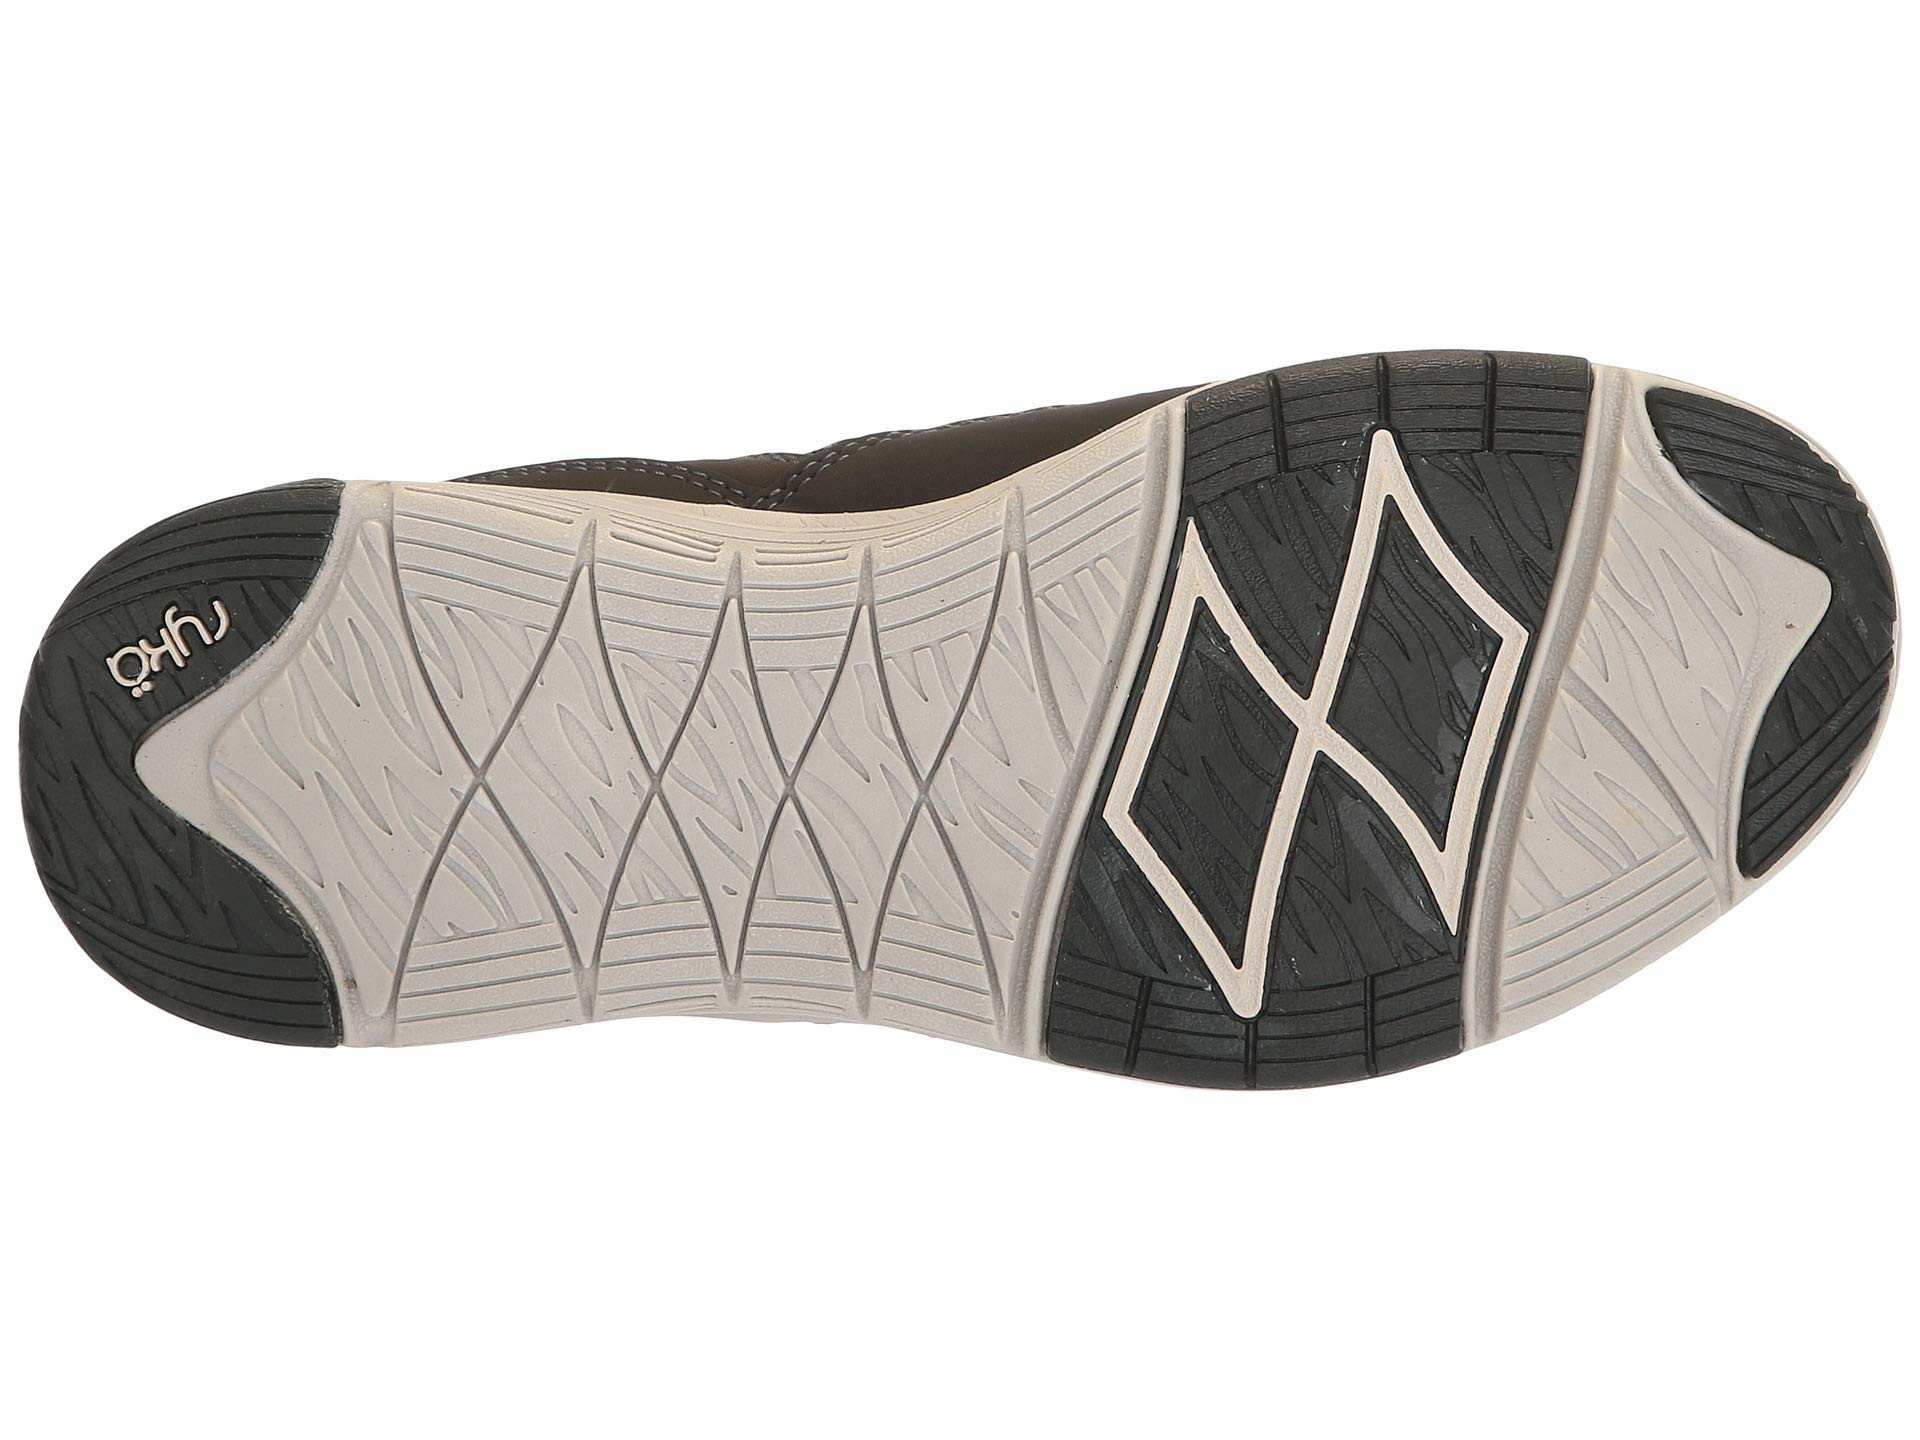circle: (76, 569, 262, 715)
line: (408, 486, 1036, 1015), (82, 898, 328, 1030), (76, 569, 262, 715), (1281, 366, 1542, 458)
quad: (408, 486, 1036, 1015), (76, 569, 262, 715), (1281, 366, 1542, 458)
text: (76, 569, 262, 715)
triangle: (82, 898, 328, 1030)
